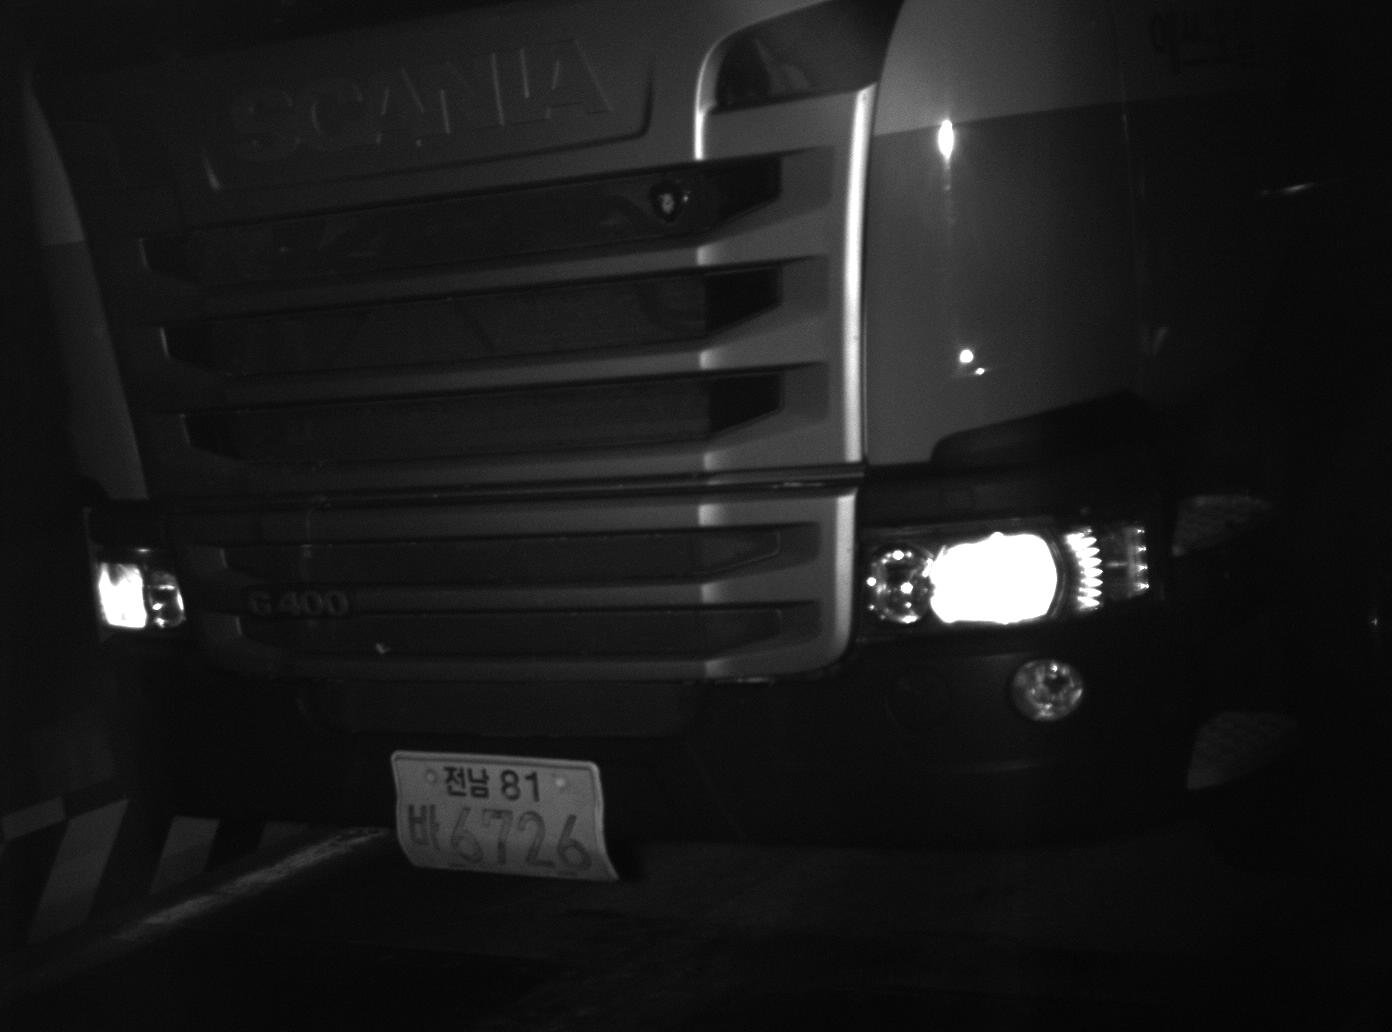car: (3, 1, 1392, 890)
plate: (384, 748, 624, 885)
